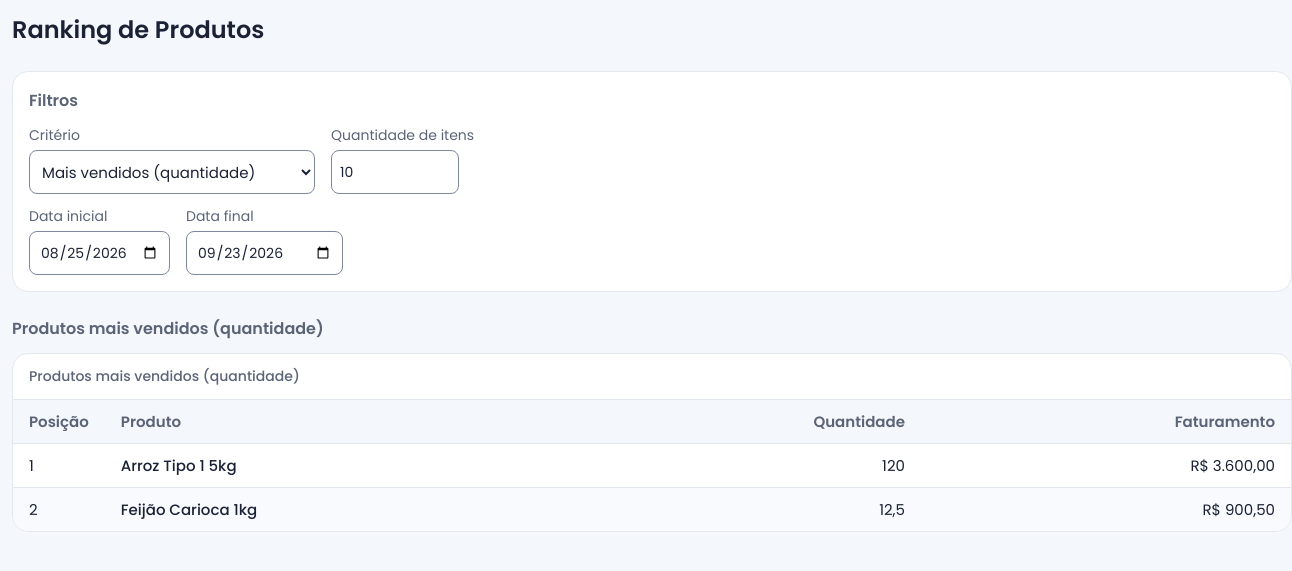
Test: RankingProdutosPage › na visão margem mostra custo total, lucro e margem percentual
Expected: the table is shown, [13,354,1291,531]
Select "Maior margem" in the dropdown labelled "Critério" at [172, 172], box [29,150,315,194]
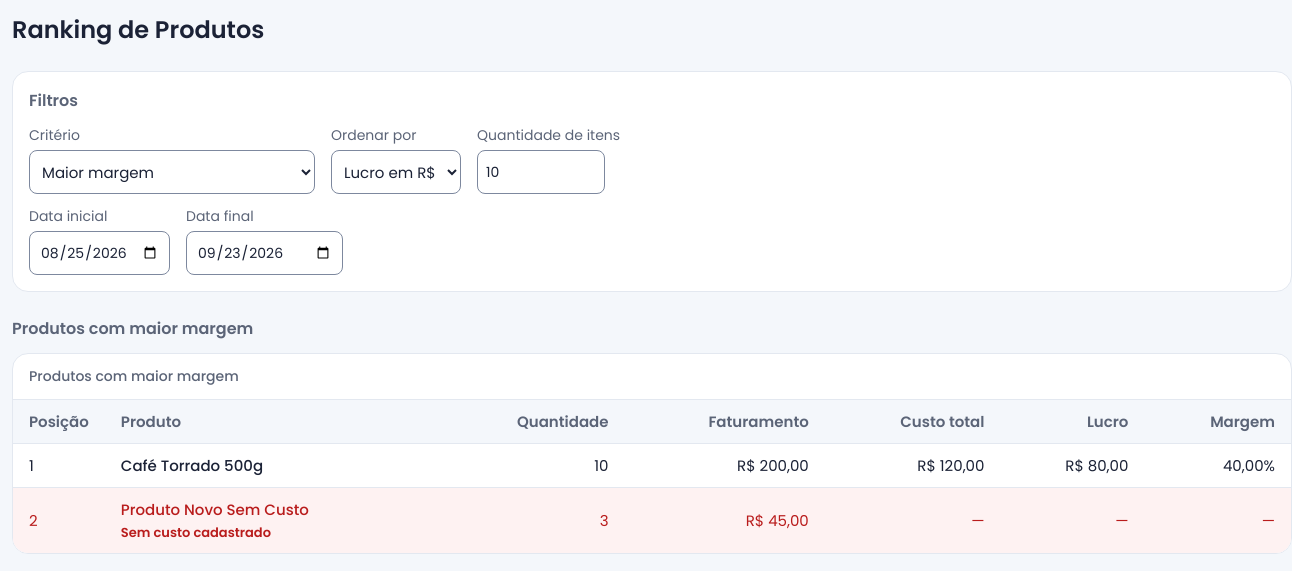
Expected: the column heading "Custo total" is shown, [825,400,1000,444]
Expected: the column heading "Lucro" is shown, [1000,400,1144,444]
Expected: the column heading "Margem" is shown, [1144,400,1291,444]
